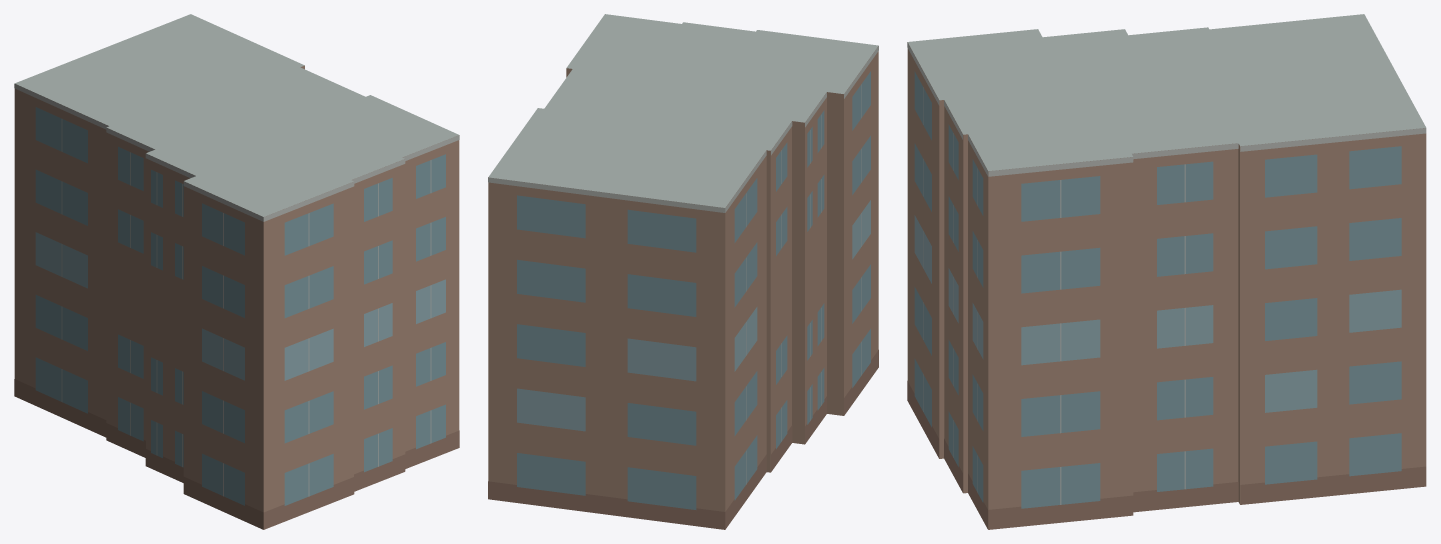
Rendered from survey-upis-32611816.glb.
The picture shows the model from 3 angles, left to right: view 1: azimuth 30°, elevation 25°; view 2: azimuth 150°, elevation 25°; view 3: azimuth 270°, elevation 25°; orthographic projection. The views are drawn at different scales.
Parts seen in each view (by area): view 1: survey-upis-32611816.tmp; view 2: survey-upis-32611816.tmp; view 3: survey-upis-32611816.tmp.
Boxes of the visible parts, <box> form: survey-upis-32611816.tmp: <box>14,14,459,529</box>; survey-upis-32611816.tmp: <box>488,14,878,529</box>; survey-upis-32611816.tmp: <box>907,14,1426,529</box>.
Size of the model in its own units: 14.58 by 15.5 by 20.33.
